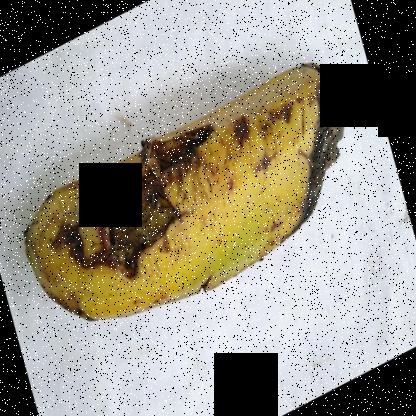rotten: (46, 109, 244, 316), (286, 31, 360, 256)
